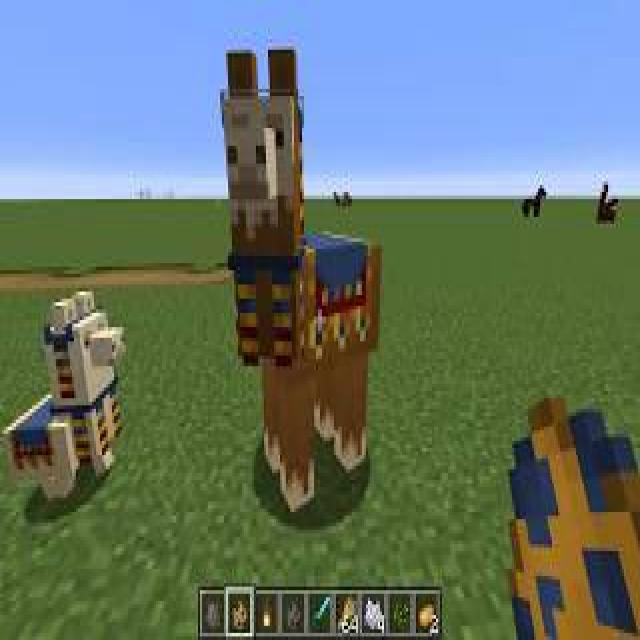Trader Lama: (220, 48, 382, 510), (4, 290, 126, 500)
